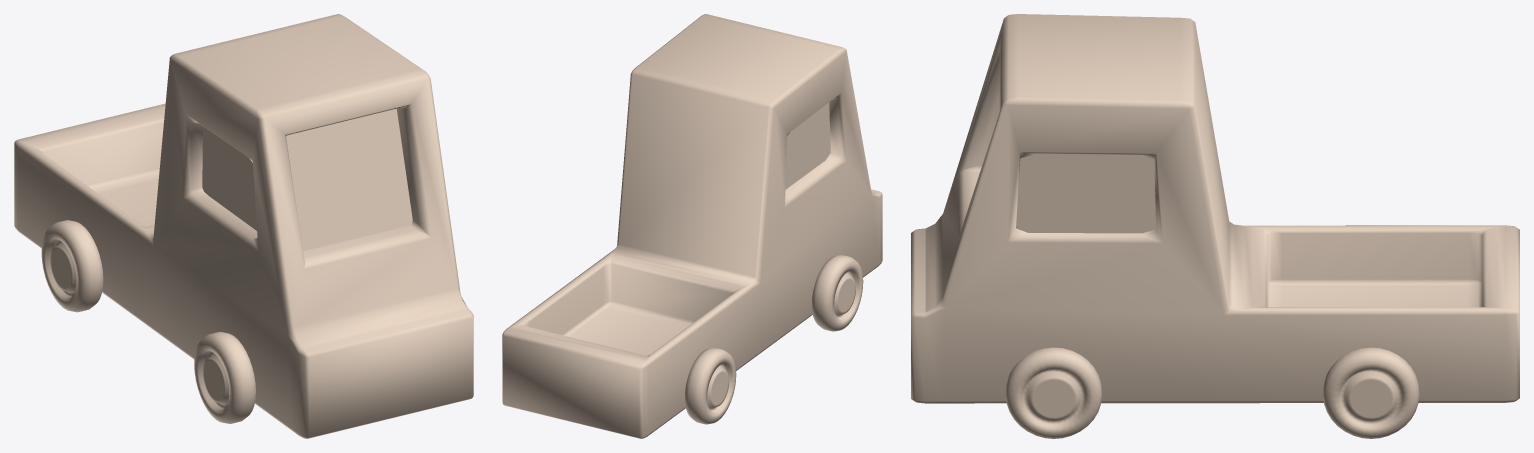
File: MiniCamiontextu.fbx
3 views of the same model, side by side, from view 1: azimuth 30°, elevation 25°; view 2: azimuth 150°, elevation 25°; view 3: azimuth 270°, elevation 25° (orthographic). The views are drawn at different scales.
Visible parts, largest first — view 1: Cube.066, Cube.067, Cylinder.015; view 2: Cube.066, Cylinder.015, Cube.067; view 3: Cube.066, Cylinder.015, Cube.067.
Boxes of the visible parts, x1,y1,x2,y2 form: Cube.066: (14, 14, 473, 438); Cube.067: (202, 108, 412, 251); Cylinder.015: (41, 220, 255, 423); Cube.066: (502, 14, 882, 438); Cylinder.015: (685, 255, 863, 424); Cube.067: (785, 102, 830, 189); Cube.066: (911, 14, 1519, 403); Cylinder.015: (1005, 347, 1419, 438); Cube.067: (1016, 154, 1155, 233).
Bounding box in the file's own units: 2.52 × 3.55 × 5.91.
